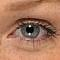eye: (22, 24, 40, 38)
